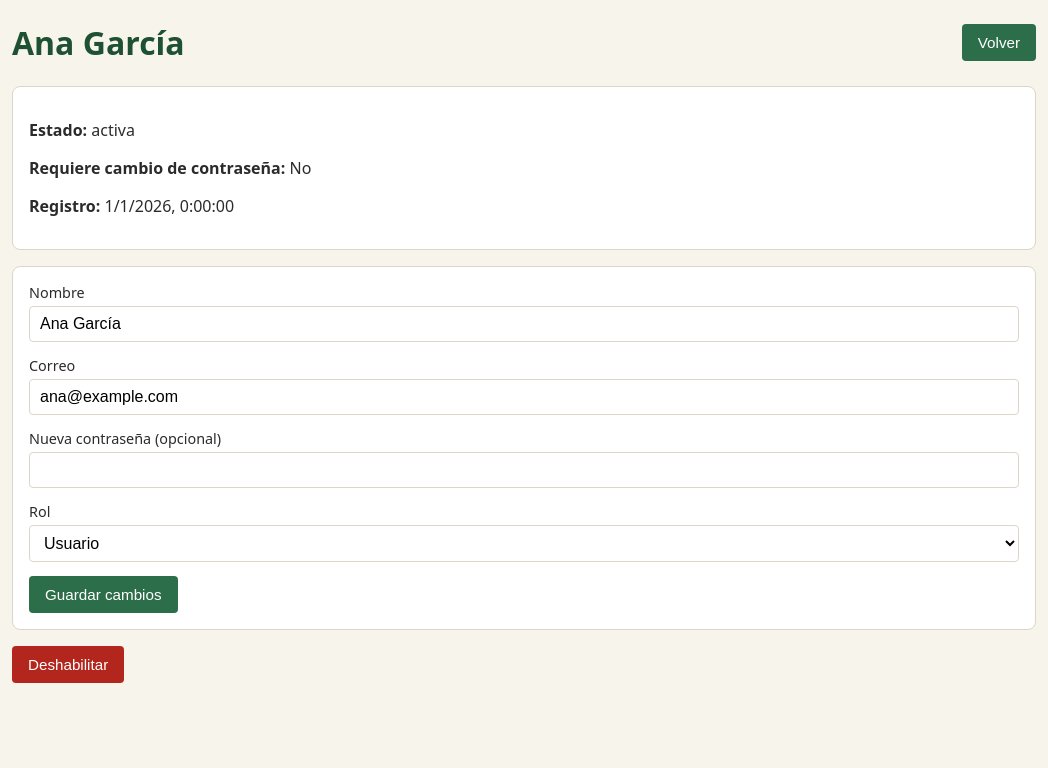
Test: Estado de usuario (US4) › deshabilita al confirmar y actualiza el estado en pantalla
This screenshot has width=1048, height=768.
Click the button "Deshabilitar": click(68, 664) [12,646,124,683]
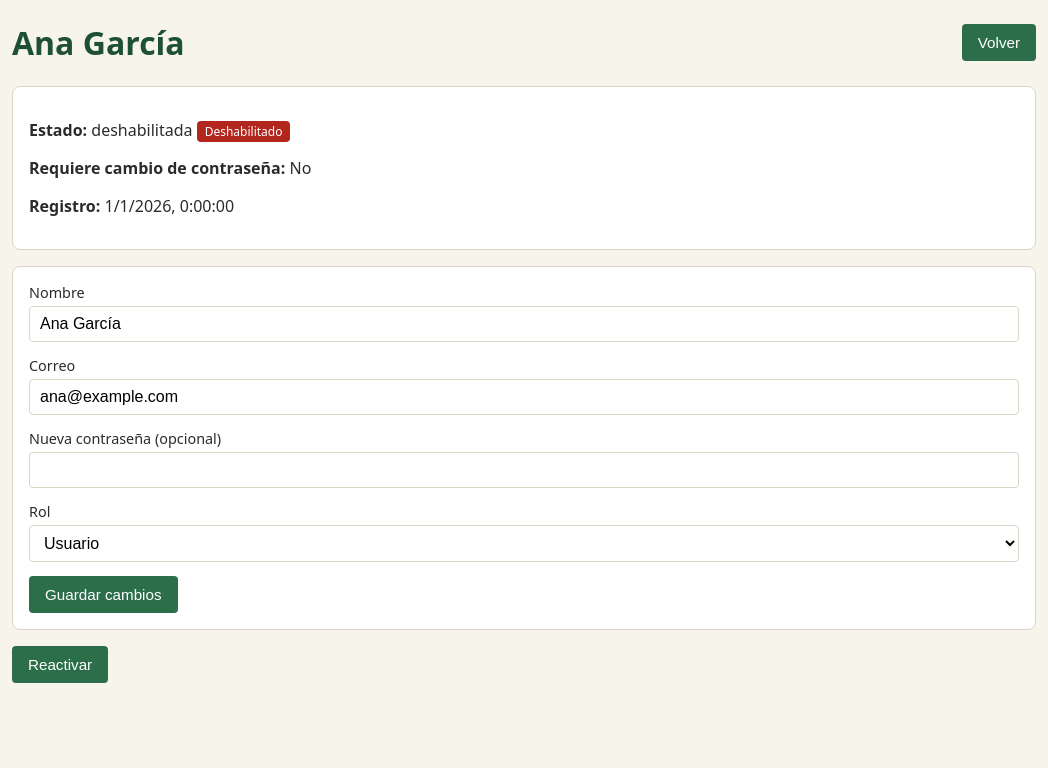
Check: the text "deshabilitada" is shown, box [91,119,192,141]
